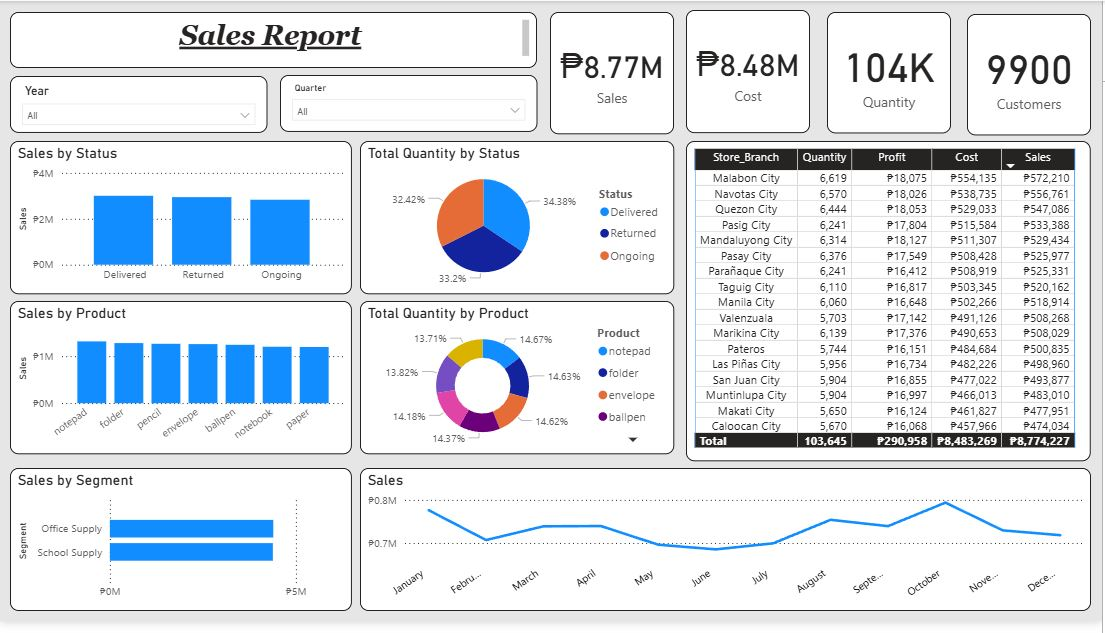

What the dashboard file says about the page in this screenshot:
{"tool":"powerbi","page":{"name":"Sales Report","canvas":[1280,720],"ordinal":0},"visuals":[{"type":"textbox","box":[11.6,12.8,612.1,65],"z":0},{"type":"card","fields":{"Values":["Project FactOrders.Cost"]},"box":[796.8,10.5,144,142.9],"z":1000},{"type":"card","fields":{"Values":["Project FactOrders.Sales"]},"box":[638.8,12.8,144,141.7],"z":2000},{"type":"card","fields":{"Values":["Sum(Project FactOrders.Quantity)"]},"box":[960.6,12.8,144,140.5],"z":3000},{"type":"clusteredColumnChart","fields":{"Category":["Project Dim_Status.Status"],"Y":["Project FactOrders.Sales"]},"box":[11.6,162.6,397.2,177.7],"z":4000},{"type":"clusteredColumnChart","fields":{"Category":["Project Dim_Product.Product"],"Y":["Project FactOrders.Sales"]},"box":[11.6,348.5,397.2,177.7],"z":5000},{"type":"tableEx","fields":{"Values":["Project Dim_Region.Store_Branch","Sum(Project FactOrders.Quantity)","Sum(Project FactOrders.Profit)","Project FactOrders.Cost","Project FactOrders.Sales"]},"box":[796.8,162.6,470.4,371.7],"z":6000},{"type":"lineChart","title":"Sales","fields":{"Category":["Months.Month Name"],"Y":["Project FactOrders.Sales"]},"box":[418.1,542.4,849.1,166.1],"z":7000},{"type":"clusteredBarChart","fields":{"Category":["Project Dim_Segment.Segment"],"Y":["Project FactOrders.Sales"]},"box":[11.6,542.4,397.2,166.1],"z":8000},{"type":"card","fields":{"Values":["Project Dim_Customer.Customers"]},"box":[1123.2,15.1,144,140.5],"z":9000},{"type":"pieChart","title":"Total Quantity by Status","fields":{"Y":["Sum(Project FactOrders.Quantity)"],"Category":["Project Dim_Status.Status"]},"box":[418.1,162.6,364.7,177.7],"z":10000},{"type":"donutChart","title":"Total Quantity by Product","fields":{"Y":["Sum(Project FactOrders.Quantity)"],"Category":["Project Dim_Product.Product"]},"box":[418.1,348.5,364.7,177.7],"z":11000},{"type":"slicer","fields":{"Values":["Project Dim_OrderDate.Year"]},"box":[11.6,87.1,298.5,66.2],"z":11001},{"type":"slicer","fields":{"Values":["Project Dim_OrderDate.Quarter"]},"box":[325.2,86,298.5,66.2],"z":11002}]}

Visuals, with their boxes in screenshot pixels (x1, y1, x2, y2), scaled from the page's 1280x720 canvas onto the 1105x633 screenshot:
textbox: BBox(10, 11, 538, 68)
card - Project FactOrders.Cost: BBox(688, 9, 812, 135)
card - Project FactOrders.Sales: BBox(551, 11, 676, 136)
card - Sum(Project FactOrders.Quantity): BBox(829, 11, 954, 135)
clusteredColumnChart - Project Dim_Status.Status x Project FactOrders.Sales: BBox(10, 143, 353, 299)
clusteredColumnChart - Project Dim_Product.Product x Project FactOrders.Sales: BBox(10, 306, 353, 463)
tableEx - Project Dim_Region.Store_Branch x Sum(Project FactOrders.Quantity): BBox(688, 143, 1094, 470)
"Sales" lineChart: BBox(361, 477, 1094, 623)
clusteredBarChart - Project Dim_Segment.Segment x Project FactOrders.Sales: BBox(10, 477, 353, 623)
card - Project Dim_Customer.Customers: BBox(970, 13, 1094, 137)
"Total Quantity by Status" pieChart: BBox(361, 143, 676, 299)
"Total Quantity by Product" donutChart: BBox(361, 306, 676, 463)
slicer - Project Dim_OrderDate.Year: BBox(10, 77, 268, 135)
slicer - Project Dim_OrderDate.Quarter: BBox(281, 76, 538, 134)
